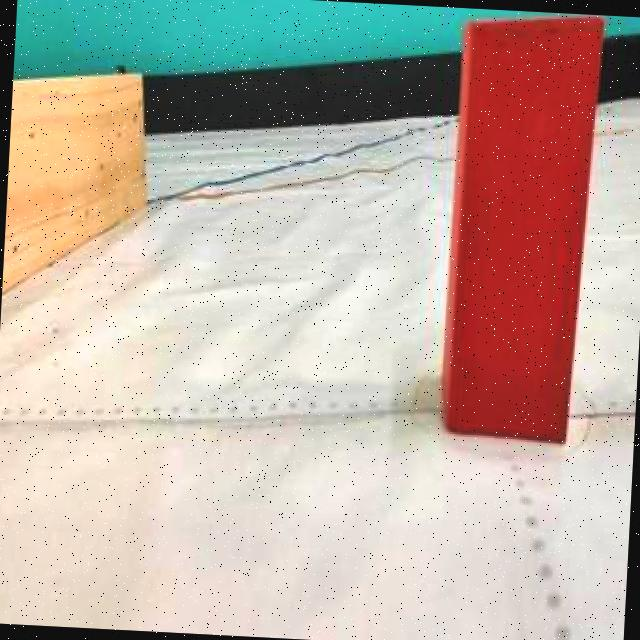redbox: (438, 7, 605, 444)
